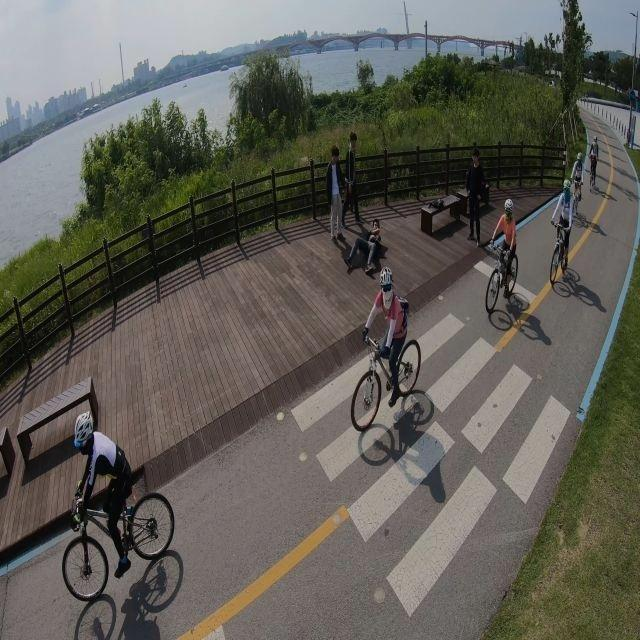non-fight: (68, 409, 138, 582), (363, 265, 405, 407), (490, 196, 520, 298), (548, 177, 577, 270), (343, 217, 384, 275), (464, 148, 487, 245), (324, 144, 347, 241), (344, 130, 364, 226), (570, 151, 586, 208), (587, 134, 601, 186)
